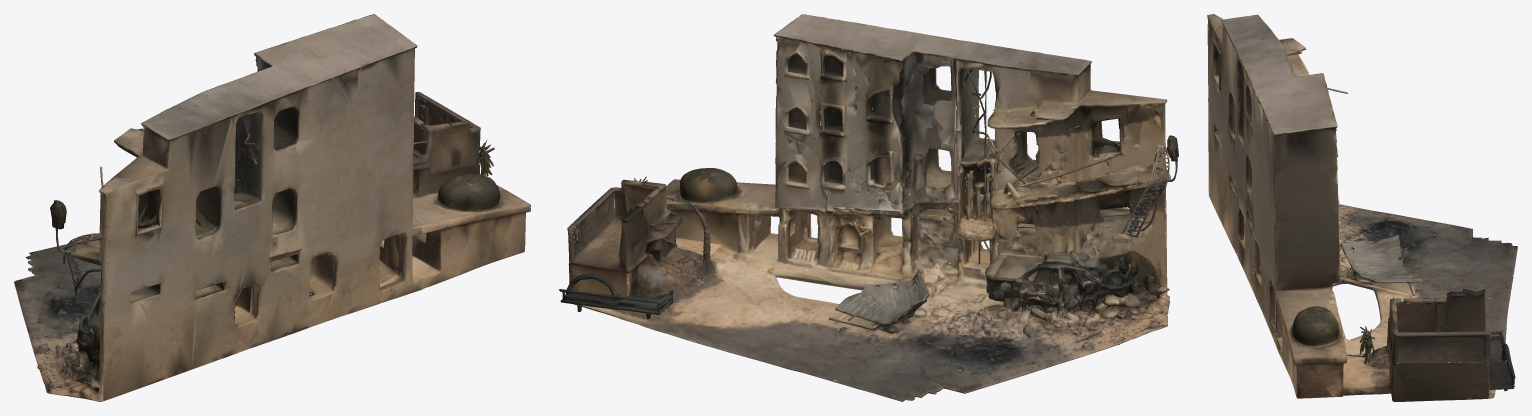
File: hero_city.glb
3 renders of one model, left to right at view 1: azimuth 30°, elevation 25°; view 2: azimuth 150°, elevation 25°; view 3: azimuth 270°, elevation 25°, orthographic. The views are drawn at different scales.
Parts seen in each view (by area): view 1: hero; view 2: hero; view 3: hero.
Part boxes in pixels (x1,y1,x2,y2): hero: (14,14,530,401); hero: (559,14,1178,401); hero: (1207,14,1517,401).
Size of the model in its own units: 0.9808 by 0.4666 by 0.5893.
1 material, 1 textured.
